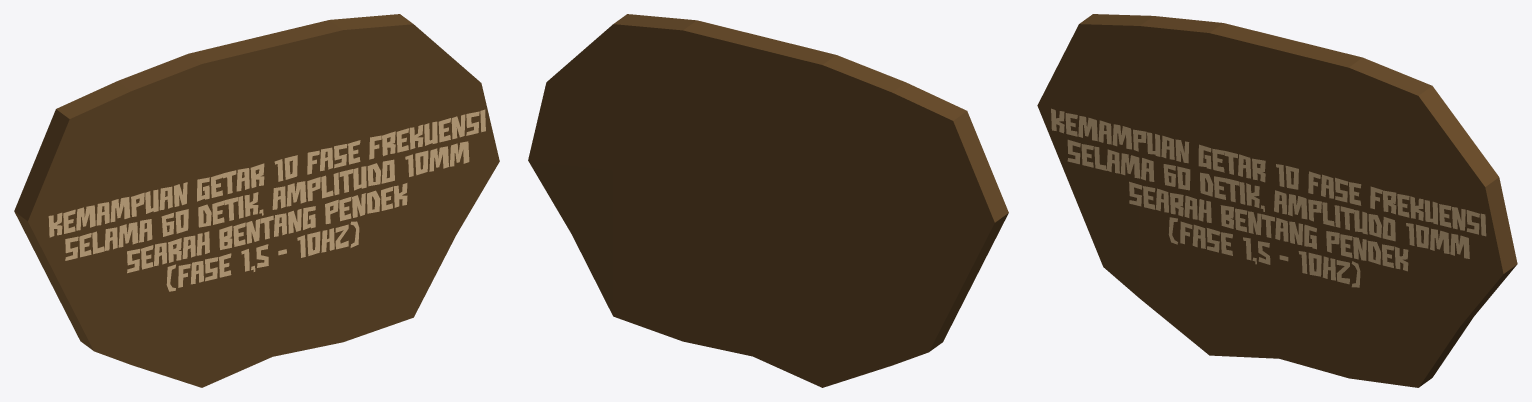
Rendered from ui_3_ShakingTable.fbx.
3 views of the same model, side by side, from view 1: azimuth 30°, elevation 25°; view 2: azimuth 150°, elevation 25°; view 3: azimuth 330°, elevation 25° (orthographic).
Parts seen in each view (by area): view 1: Cube.003, Text.002; view 2: Cube.003; view 3: Cube.003, Text.002.
Boxes of the visible parts, box(x1,y1,x2,y2) form: Cube.003: box(14, 14, 499, 387); Text.002: box(48, 109, 485, 291); Cube.003: box(528, 14, 1008, 387); Cube.003: box(1037, 14, 1517, 387); Text.002: box(1051, 108, 1486, 287).
Bounding box in the file's own units: 256 × 168 × 16.5.
